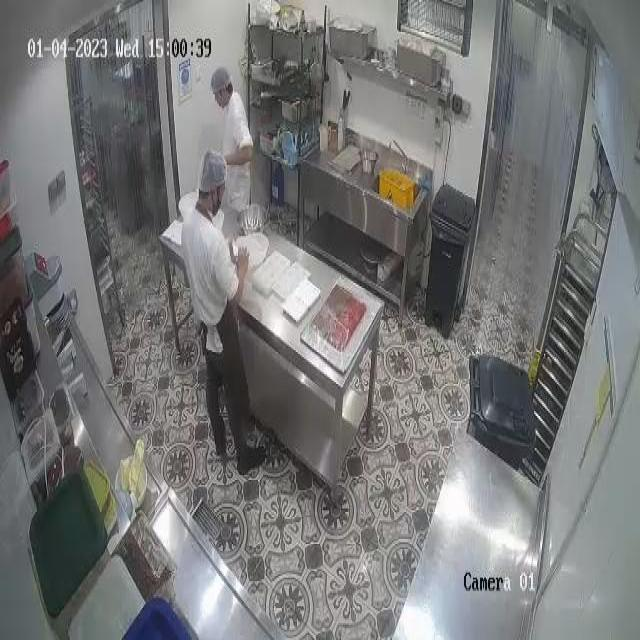hairnet: (199, 147, 226, 190), (210, 66, 231, 90)
